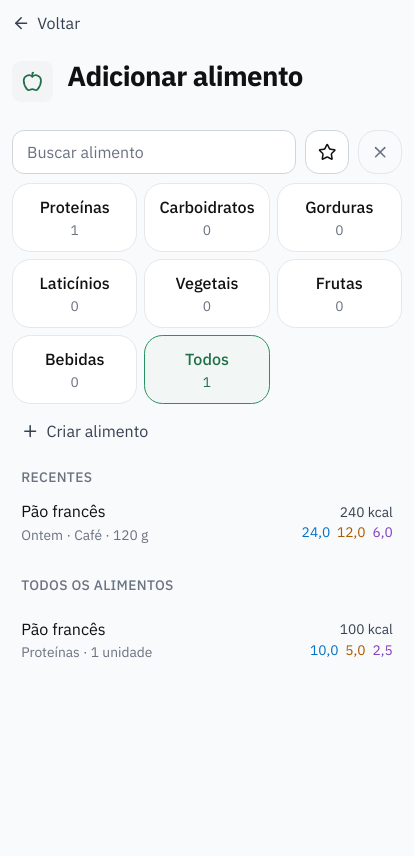
Test: FoodSelectionScreen — Recentes › começa nas gramas da última vez, não na porção de referência
The width and height of the screenshot is (414, 856).
Expected: the search field named "Buscar alimento para adicionar" is enabled, [12, 130, 296, 174]
Step 1. Click the button "Pão francês Ontem · Café · 120 g 240 kcal 24,0 12,0 6,0" → (63, 511), box [12, 491, 402, 553]
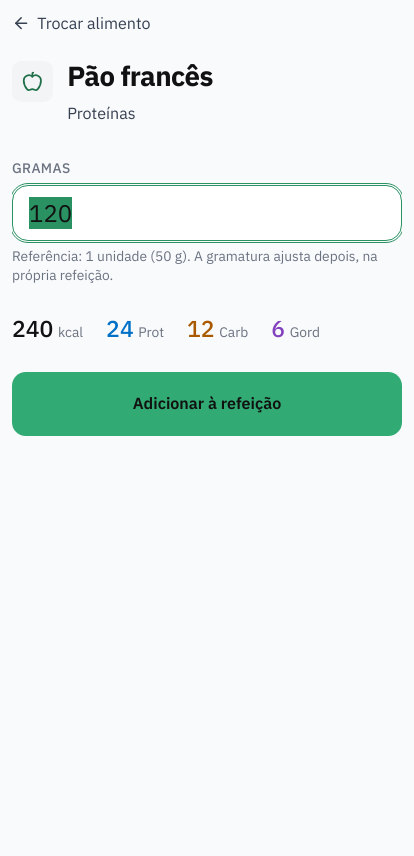
Now the field labelled "Gramas" holds "120", box [12, 184, 402, 240]
